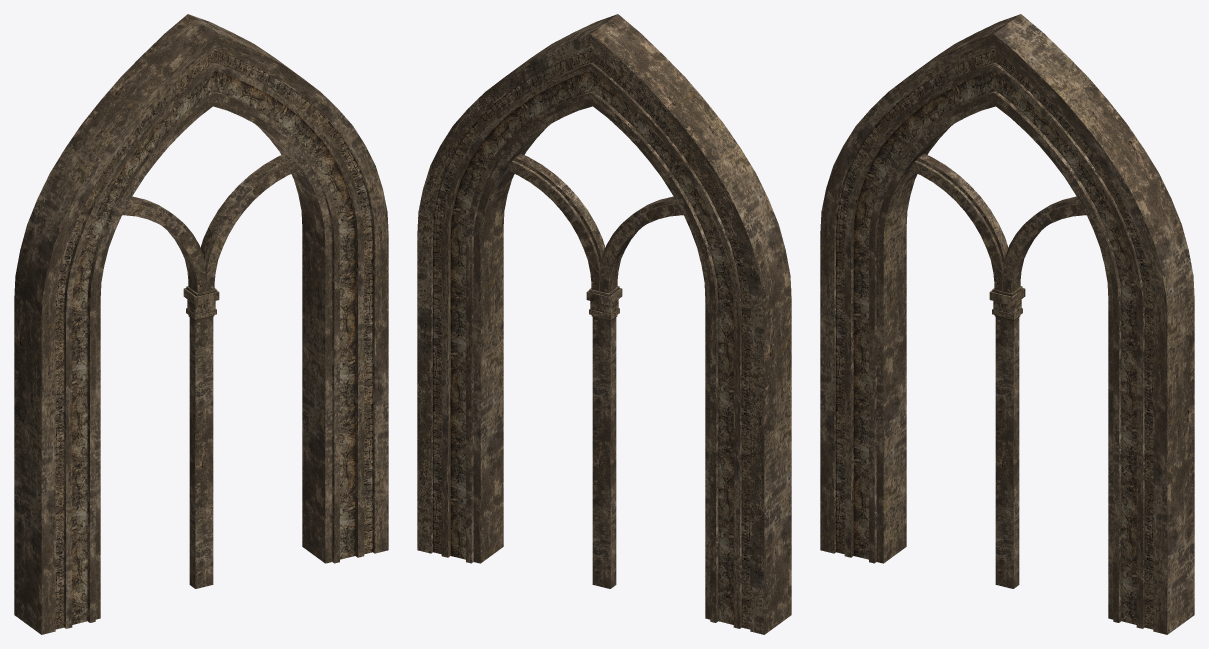
File: materials_5_gate_15.fbx
3 views of the same model, side by side, from view 1: azimuth 30°, elevation 25°; view 2: azimuth 150°, elevation 25°; view 3: azimuth 330°, elevation 25° (orthographic).
Parts seen in each view (by area): view 1: materials_5_gate_15; view 2: materials_5_gate_15; view 3: materials_5_gate_15.
Boxes of the visible parts, x1,y1,x2,y2 form: materials_5_gate_15: [14, 14, 388, 634]; materials_5_gate_15: [417, 14, 791, 634]; materials_5_gate_15: [820, 14, 1194, 634].
Size of the model in its own units: 182 by 281 by 24.81.
